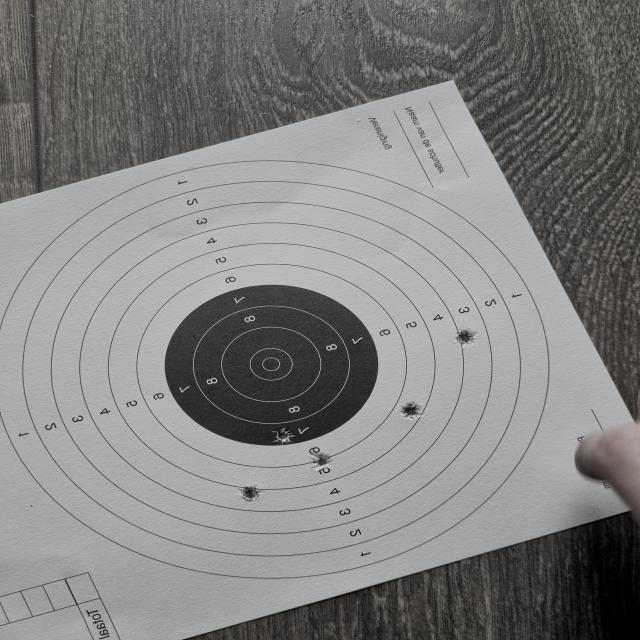4: (455, 331, 476, 346)
5: (238, 485, 263, 502), (399, 402, 425, 418)
6: (308, 452, 332, 469)
7: (272, 429, 296, 445)
Target: (0, 161, 552, 580)
black_contour: (163, 283, 379, 446)
